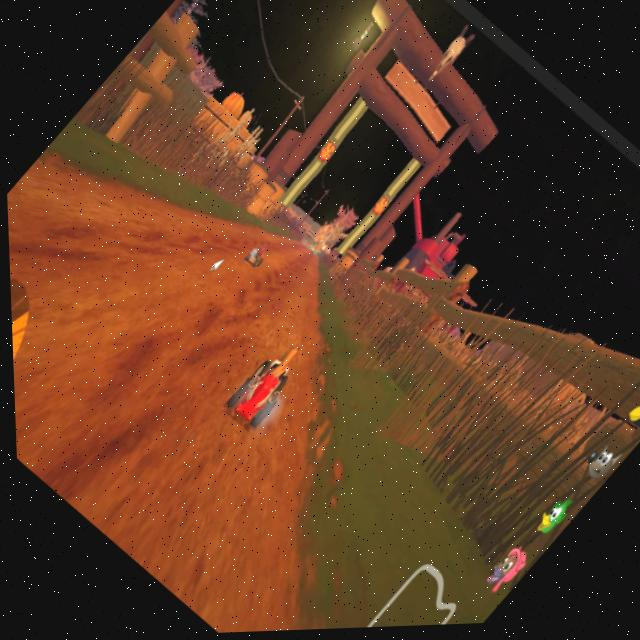enemy_kart: (238, 246, 267, 276)
player_kart: (207, 331, 318, 444)
track: (51, 231, 333, 528), (5, 151, 228, 389)
